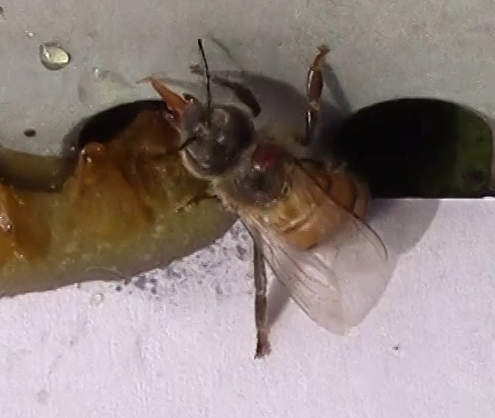Varroa destructor: (248, 142, 283, 172)
